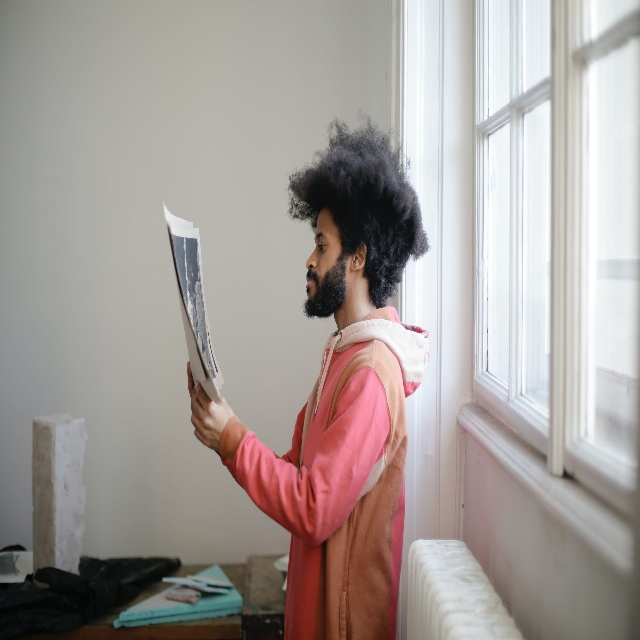Sin_guantes: (191, 380, 236, 452)
